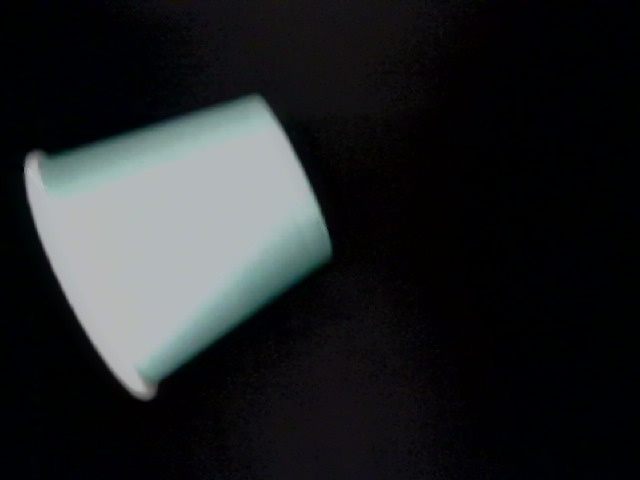KHSLJ: (108, 181, 471, 477)
